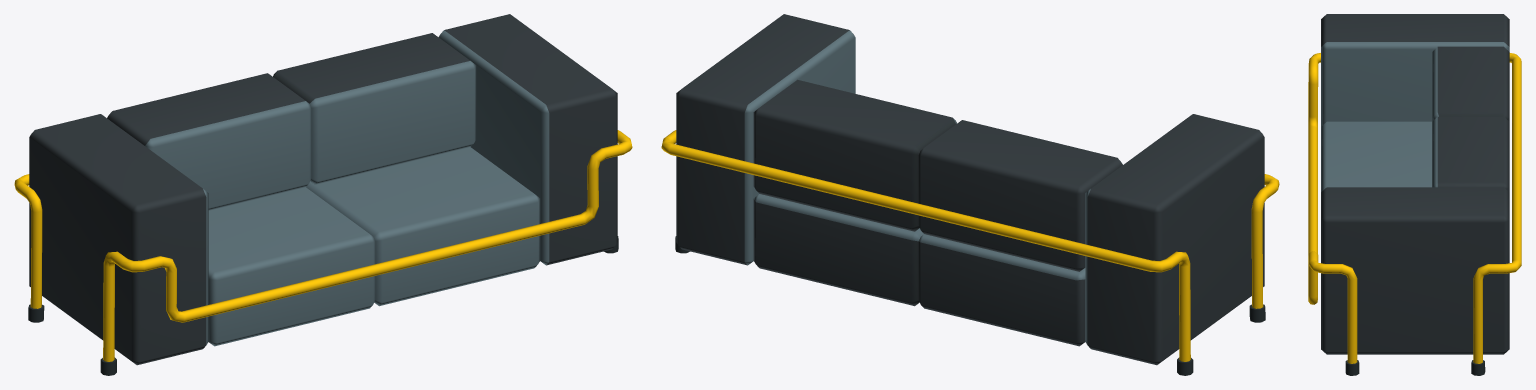
Rendered from Sofa_010.fbx.
3 views of the same model, side by side, from view 1: azimuth 30°, elevation 25°; view 2: azimuth 150°, elevation 25°; view 3: azimuth 270°, elevation 25° (orthographic). The views are drawn at different scales.
Parts seen in each view (by area): view 1: Sofa_010; view 2: Sofa_010; view 3: Sofa_010.
Boxes of the visible parts, x1,y1,x2,y2 form: Sofa_010: (14,14,632,375); Sofa_010: (661,14,1279,375); Sofa_010: (1308,14,1521,375).
Bounding box in the file's own units: 259 × 107 × 84.24.
